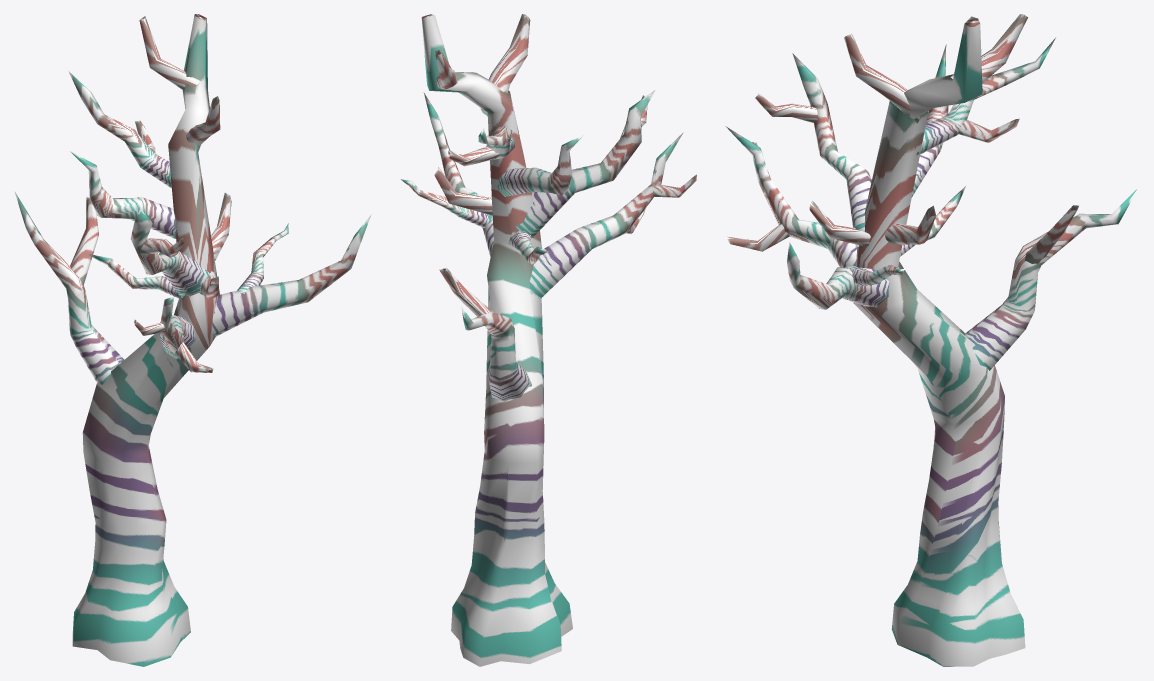
File: tree_04.fbx
The picture shows the model from 3 angles, left to right: view 1: azimuth 30°, elevation 25°; view 2: azimuth 150°, elevation 25°; view 3: azimuth 270°, elevation 25°; orthographic projection. The views are drawn at different scales.
Visible parts, largest first — view 1: tree; view 2: tree; view 3: tree.
Boxes of the visible parts, x1,y1,x2,y2 form: tree: [14, 14, 371, 666]; tree: [400, 14, 696, 666]; tree: [725, 14, 1139, 666].
Bounding box in the file's own units: 4.5 × 10.33 × 5.84.
